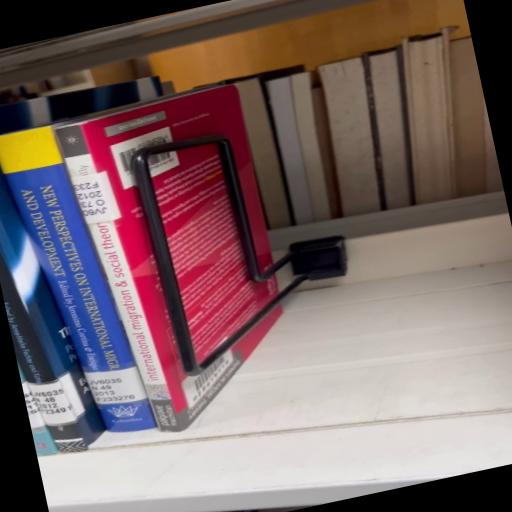reverse: (56, 87, 282, 432)
